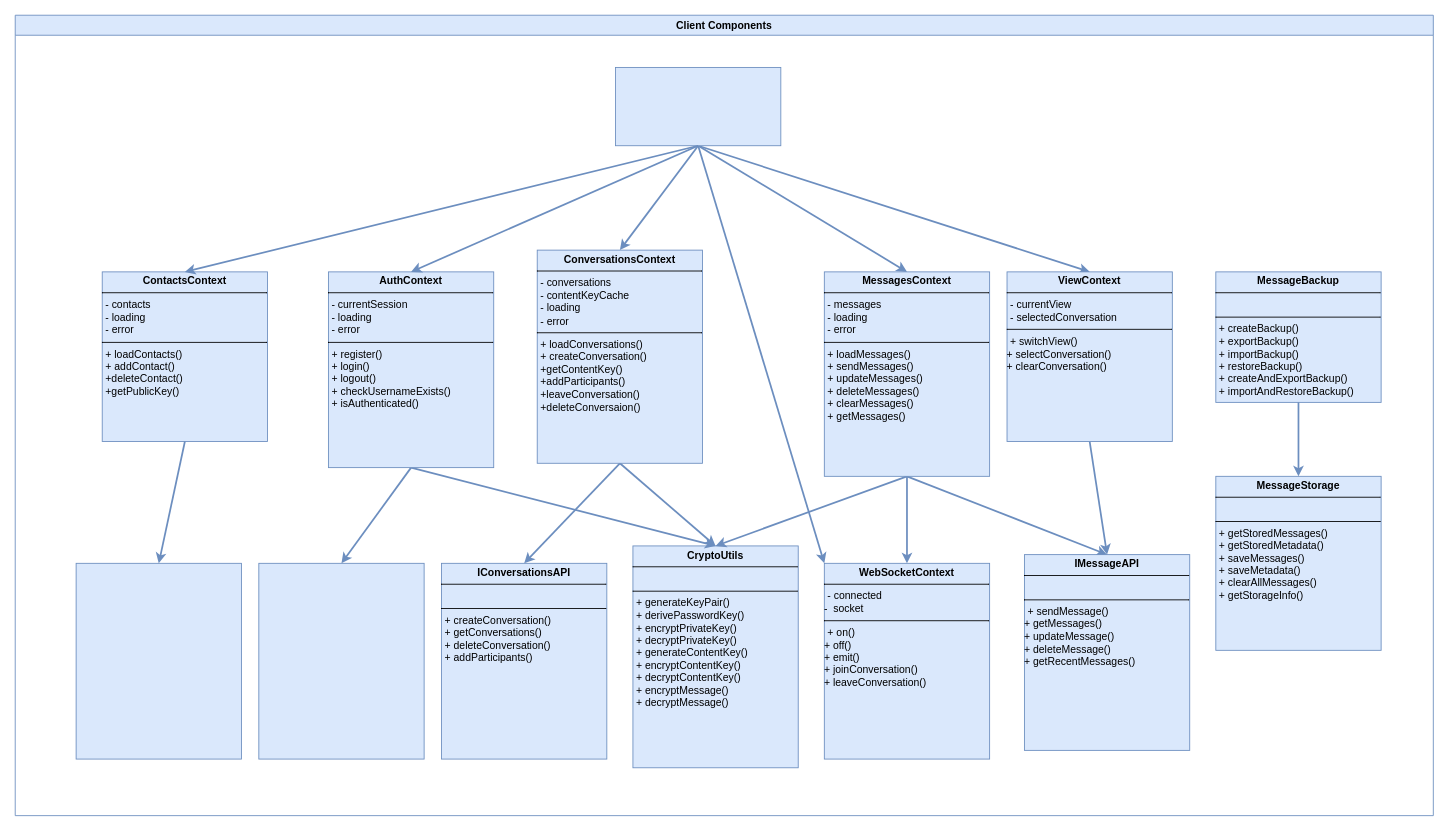
The diagram is 1449 pixels wide and 831 high, and some of its shapes have lost their labels. Each missing label, with the box of its shape:
IAuthAPI + register() + login() + getUser() + logout() + checkUsername(): (258, 562, 424, 759)
IContactsAPI + addContact() + getContacts() + deleteContacts() + getPublicKey(): (75, 562, 241, 759)
User Interface: (615, 67, 781, 146)
